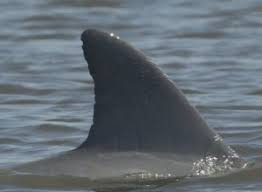fin: (11, 23, 256, 185)
